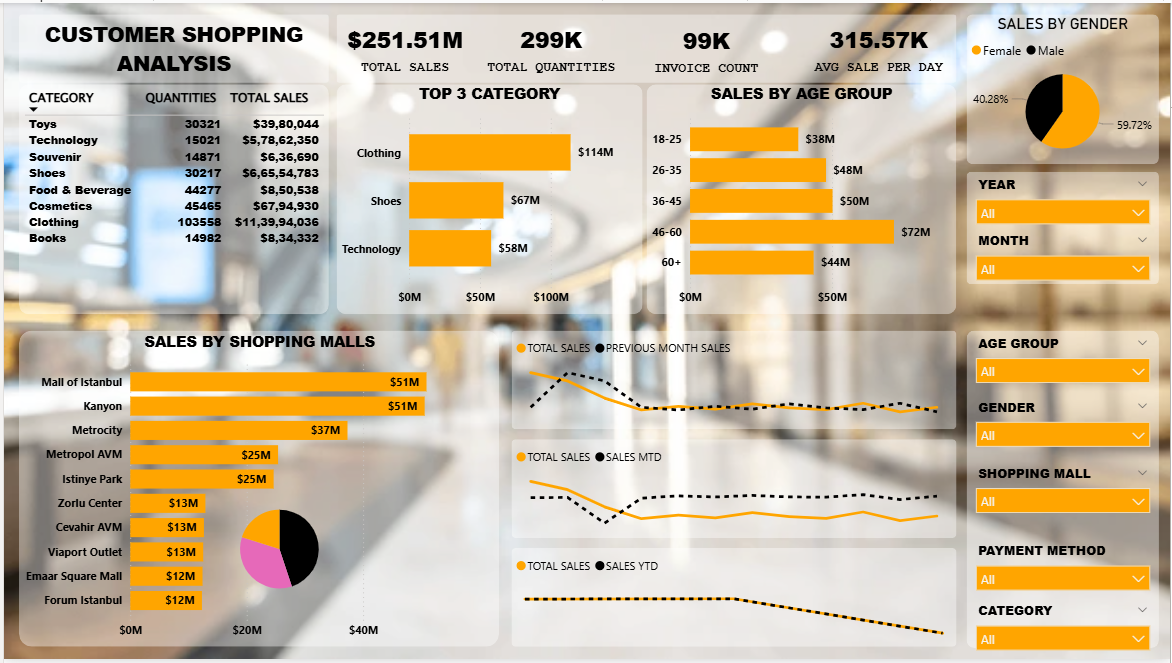

This screenshot's page, from the dashboard's own definition file:
{"tool":"powerbi","page":{"name":"Page 1","canvas":[1280,720],"ordinal":0},"visuals":[{"type":"shape","box":[16.5,12.3,340.3,75.5],"z":0},{"type":"shape","box":[365,12.3,680.6,75.5],"z":1000},{"type":"shape","box":[16.5,89.2,340.3,252.5],"z":2000},{"type":"shape","box":[16.5,359.5,526.9,347.2],"z":3000},{"type":"tableEx","fields":{"Values":["SALESDATA.category","Sum(SALESDATA.quantity)","MEASURES (2).TOTAL SALES"]},"box":[16.5,89.2,340.3,252.5],"z":4000},{"type":"shape","box":[365,89.2,336.2,252.5],"z":5000},{"type":"shape","box":[705.3,89.2,340.3,252.5],"z":6000},{"type":"shape","box":[557.1,359.5,488.5,108.4],"z":7000},{"type":"barChart","title":"TOP 3 CATEGORY","fields":{"Category":["SALESDATA.category"],"Y":["MEASURES (2).TOTAL SALES"]},"box":[365,87.8,336.2,253.9],"z":8000},{"type":"shape","box":[1056.6,12.3,211.3,164.7],"z":9000},{"type":"shape","box":[557.1,478.9,488.5,108.4],"z":10000},{"type":"shape","box":[557.1,598.3,488.5,108.4],"z":11000},{"type":"card","fields":{"Values":["MEASURES (2).TOTAL SALES"]},"box":[365,12.3,150.9,75.5],"z":12000},{"type":"card","fields":{"Values":["MEASURES (2).TOTAL QUANTITIES"]},"box":[516,12.3,170.2,75.5],"z":13000},{"type":"card","fields":{"Values":["MEASURES (2).INVOICE COUNT"]},"box":[686.1,13.7,170.2,75.5],"z":14000},{"type":"card","fields":{"Values":["MEASURES (2).AVERAGE SALE PER DAY"]},"box":[875.5,12.3,170.2,75.5],"z":15000},{"type":"lineChart","title":"SALES MONTH OVER MONTH","fields":{"Y":["MEASURES (2).TOTAL SALES"],"Y2":["MEASURES (2).MOM SALES"],"Category":["DIMDATE.Date.Variation.Date Hierarchy.Month"]},"box":[557.1,359.5,488.5,108.4],"z":16000},{"type":"shape","box":[1056.6,185.2,211.3,123.5],"z":17000},{"type":"shape","box":[1056.6,359.5,211.3,348.5],"z":18000},{"type":"lineChart","title":"SALES AND QUANTITY BY AGE GROUP","fields":{"Y":["MEASURES (2).TOTAL SALES"],"Y2":["MEASURES (2).SALES MTD"],"Category":["DIMDATE.Date.Variation.Date Hierarchy.Month"]},"box":[557.1,478.9,488.5,108.4],"z":19000},{"type":"lineChart","fields":{"Y":["MEASURES (2).TOTAL SALES"],"Y2":["MEASURES (2).SALES YTD"],"Category":["DIMDATE.Date.Variation.Date Hierarchy.Year"]},"box":[557.1,598.3,488.5,108.4],"z":20000},{"type":"pieChart","title":"SALES BY GENDER","fields":{"Category":["SALESDATA.gender"],"Y":["MEASURES (2).TOTAL SALES"]},"box":[1056.6,12.3,211.3,164.7],"z":21000},{"type":"slicer","fields":{"Values":["DIMDATE.Date.Variation.Date Hierarchy.Year"]},"box":[1056.6,185.2,211.3,61.7],"z":22000},{"type":"slicer","fields":{"Values":["DIMDATE.Date.Variation.Date Hierarchy.Month"]},"box":[1056.6,247,211.3,94.7],"z":23000},{"type":"clusteredBarChart","title":"SALES BY SHOPPING MALLS","fields":{"Category":["SALESDATA.shopping_mall"],"Y":["MEASURES (2).TOTAL SALES"]},"box":[17.8,359.5,525.6,347.2],"z":24000},{"type":"slicer","fields":{"Values":["SALESDATA.AGE GROUP"]},"box":[1056.6,359.5,211.3,70],"z":25000},{"type":"slicer","fields":{"Values":["SALESDATA.gender"]},"box":[1056.6,429.5,211.3,72.7],"z":26000},{"type":"clusteredBarChart","title":"SALES BY AGE GROUP","fields":{"Category":["SALESDATA.AGE GROUP"],"Y":["MEASURES (2).TOTAL SALES"]},"box":[705.3,87.8,340.3,253.9],"z":27000},{"type":"slicer","fields":{"Values":["SALESDATA.shopping_mall"]},"box":[1056.6,502.2,211.3,75.5],"z":28000},{"type":"pieChart","fields":{"Category":["SALESDATA.payment_method"],"Y":["MEASURES (2).TOTAL SALES"]},"box":[230.5,540.7,144.1,118],"z":29000},{"type":"slicer","fields":{"Values":["SALESDATA.payment_method"]},"box":[1056.6,587.3,211.3,71.4],"z":30000},{"type":"slicer","fields":{"Values":["SALESDATA.category"]},"box":[1056.6,653.2,211.3,67.2],"z":31000}]}

Visuals, with their boxes in screenshot pixels (x1, y1, x2, y2), scaled from the page's 1280x720 canvas onto the 1172x663 screenshot:
shape: left=15, top=11, right=327, bottom=81
shape: left=334, top=11, right=957, bottom=81
shape: left=15, top=82, right=327, bottom=315
shape: left=15, top=331, right=498, bottom=651
tableEx - SALESDATA.category x Sum(SALESDATA.quantity): left=15, top=82, right=327, bottom=315
shape: left=334, top=82, right=642, bottom=315
shape: left=646, top=82, right=957, bottom=315
shape: left=510, top=331, right=957, bottom=431
"TOP 3 CATEGORY" barChart: left=334, top=81, right=642, bottom=315
shape: left=967, top=11, right=1161, bottom=163
shape: left=510, top=441, right=957, bottom=541
shape: left=510, top=551, right=957, bottom=651
card - MEASURES (2).TOTAL SALES: left=334, top=11, right=472, bottom=81
card - MEASURES (2).TOTAL QUANTITIES: left=472, top=11, right=628, bottom=81
card - MEASURES (2).INVOICE COUNT: left=628, top=13, right=784, bottom=82
card - MEASURES (2).AVERAGE SALE PER DAY: left=802, top=11, right=957, bottom=81
"SALES MONTH OVER MONTH" lineChart: left=510, top=331, right=957, bottom=431
shape: left=967, top=171, right=1161, bottom=284
shape: left=967, top=331, right=1161, bottom=652
"SALES AND QUANTITY BY AGE GROUP" lineChart: left=510, top=441, right=957, bottom=541
lineChart - MEASURES (2).TOTAL SALES x MEASURES (2).SALES YTD: left=510, top=551, right=957, bottom=651
"SALES BY GENDER" pieChart: left=967, top=11, right=1161, bottom=163
slicer - DIMDATE.Date.Variation.Date Hierarchy.Year: left=967, top=171, right=1161, bottom=227
slicer - DIMDATE.Date.Variation.Date Hierarchy.Month: left=967, top=227, right=1161, bottom=315
"SALES BY SHOPPING MALLS" clusteredBarChart: left=16, top=331, right=498, bottom=651
slicer - SALESDATA.AGE GROUP: left=967, top=331, right=1161, bottom=395
slicer - SALESDATA.gender: left=967, top=395, right=1161, bottom=462
"SALES BY AGE GROUP" clusteredBarChart: left=646, top=81, right=957, bottom=315
slicer - SALESDATA.shopping_mall: left=967, top=462, right=1161, bottom=532
pieChart - SALESDATA.payment_method x MEASURES (2).TOTAL SALES: left=211, top=498, right=343, bottom=607
slicer - SALESDATA.payment_method: left=967, top=541, right=1161, bottom=607
slicer - SALESDATA.category: left=967, top=601, right=1161, bottom=662
